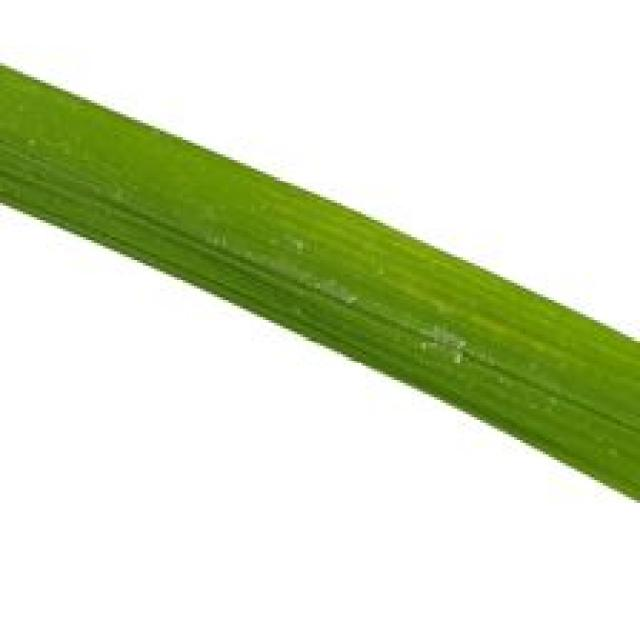Rice___Healthy_Rice_Plant: (0, 61, 637, 502)
